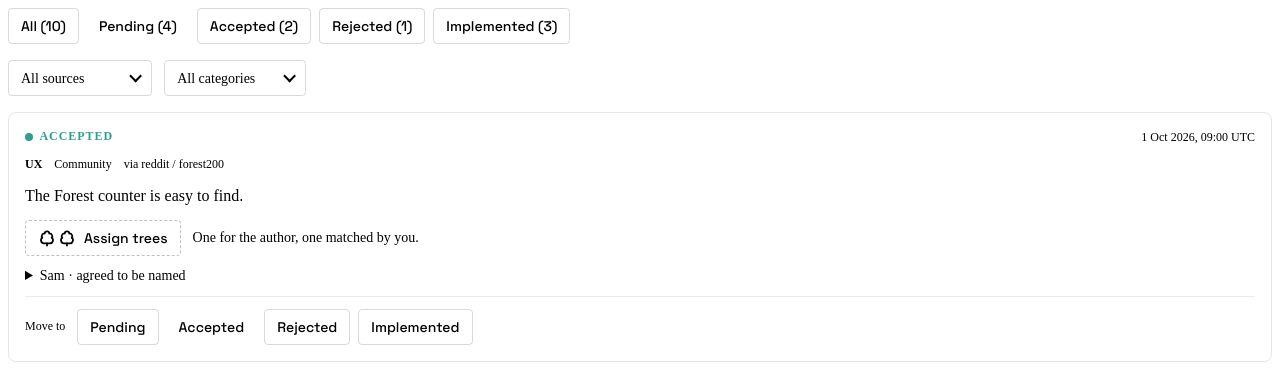
Test: AdminFeedbackBoard › assigning trees › asks for a confirmation, then awards the pair through PATCH
Check: the text "The Forest counter is easy to find." is shown, box top-left (25, 186), bottom-right (243, 204)
Check: the text "One for the author, one matched by you." is shown, box top-left (193, 230), bottom-right (419, 246)
What coordinates should you click on to do the following:
click the button with aria-label "Assign 2 trees"
I would click on:
 (103, 238)
Its box is top-left (25, 220), bottom-right (181, 256).
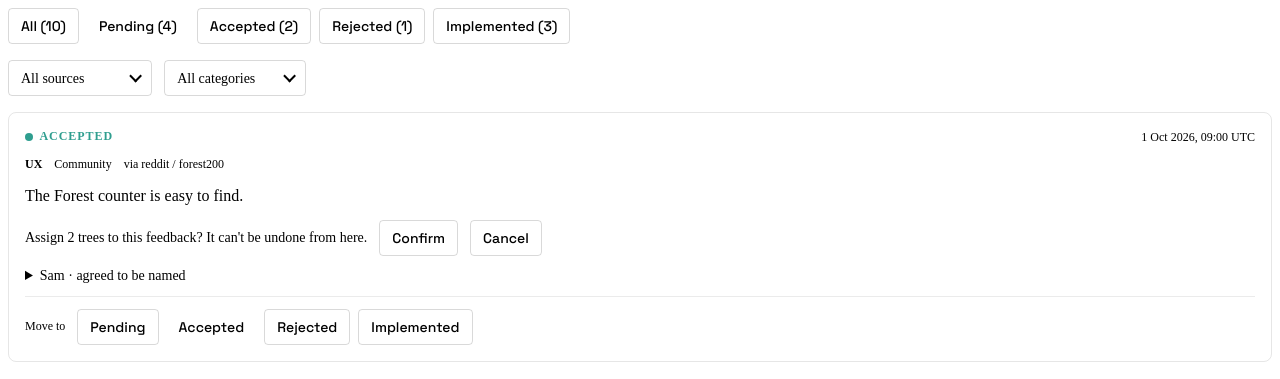
Check: the text "Assign 2 trees to this feedback?" is shown, box top-left (25, 230), bottom-right (367, 246)
What coordinates should you click on to do the following:
click the button "Confirm"
I would click on:
 (419, 238)
Its box is top-left (379, 220), bottom-right (458, 256).
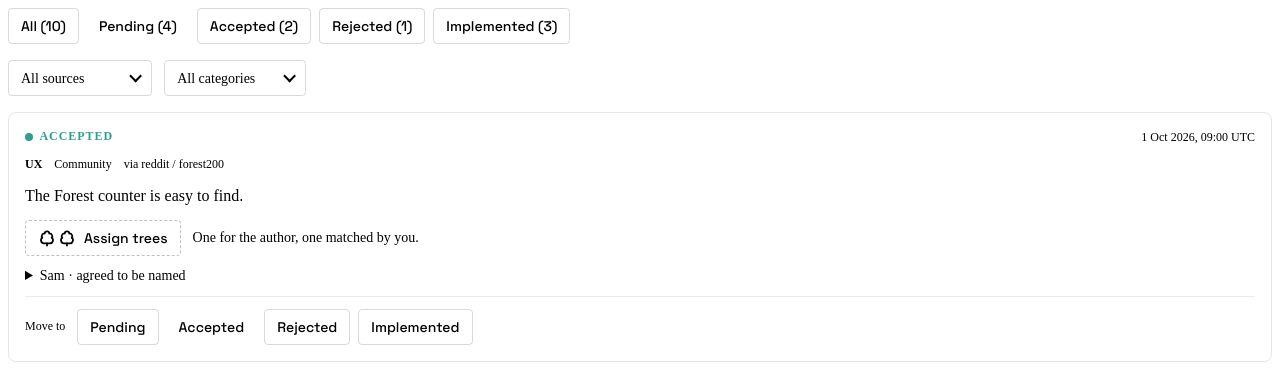
Check: the button "Confirm" is gone
